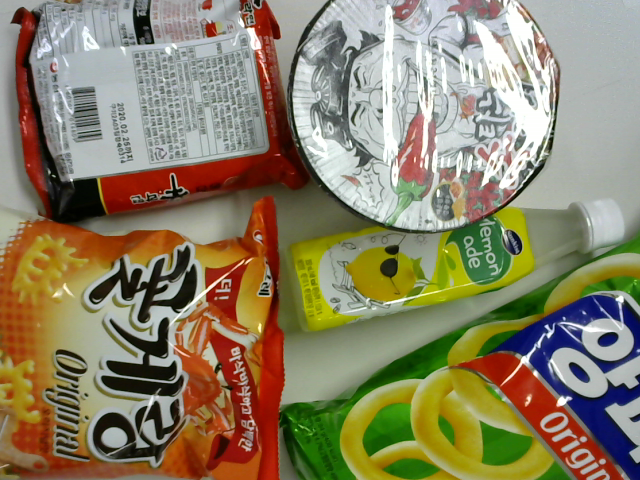Crabrang: (1, 204, 298, 472)
HeJangsock: (281, 1, 553, 228)
Oninon_Ring: (286, 239, 635, 480)
Sinramen: (28, 1, 288, 210)
Sunkist_Lemonaid_Pet: (275, 187, 634, 352)
